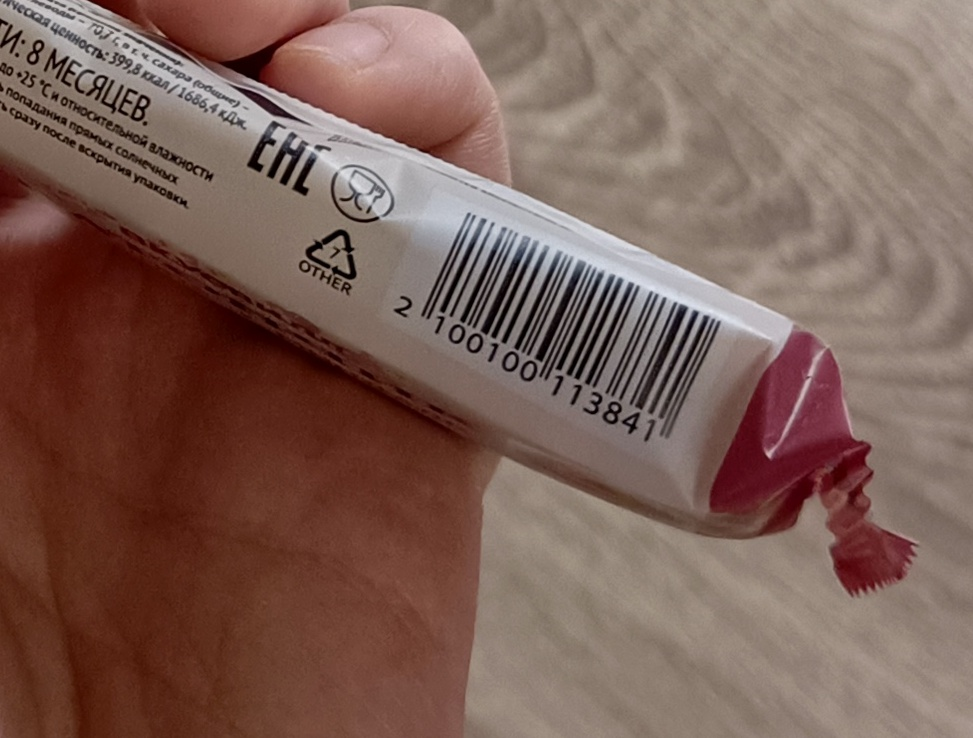1d: (413, 199, 724, 426)
